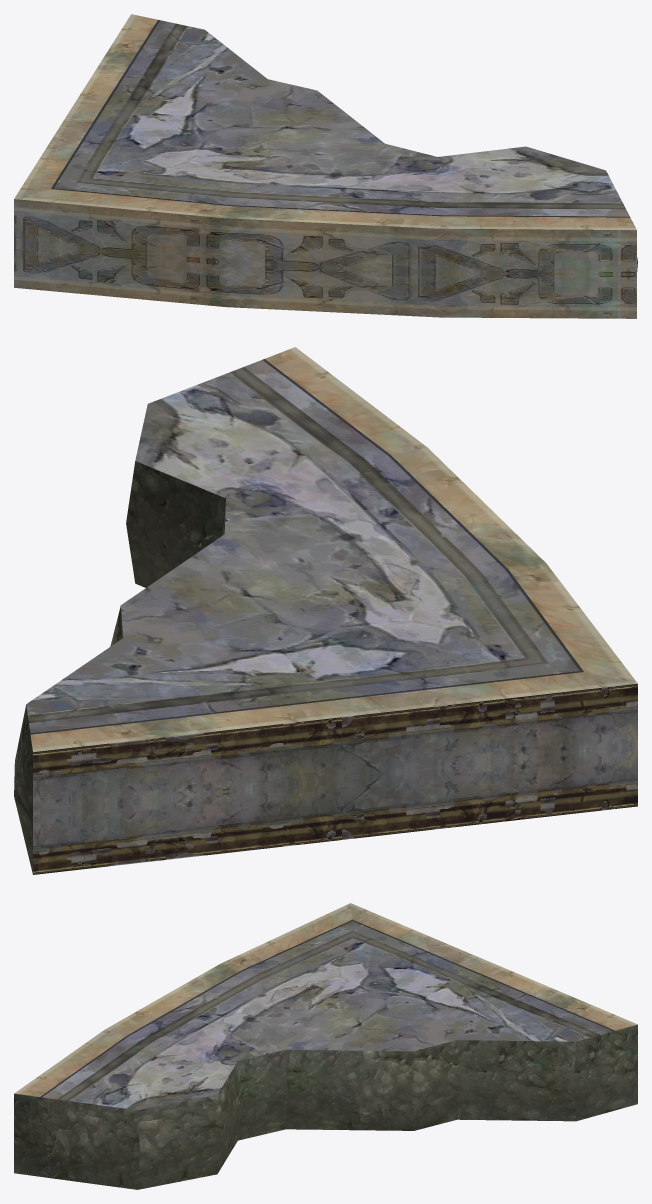
Rendered from bel_arch_rakata_raid_infernal_platform_piece03.glb.
The picture shows the model from 3 angles, top to bottom: view 1: azimuth 30°, elevation 25°; view 2: azimuth 150°, elevation 25°; view 3: azimuth 270°, elevation 25°; orthographic projection. The views are drawn at different scales.
Parts seen in each view (by area): view 1: bel_arch_rakata_raid_infernal_platform_piece03; view 2: bel_arch_rakata_raid_infernal_platform_piece03; view 3: bel_arch_rakata_raid_infernal_platform_piece03.
Part boxes in pixels (<box>): bel_arch_rakata_raid_infernal_platform_piece03: <box>14,14,637,318</box>; bel_arch_rakata_raid_infernal_platform_piece03: <box>14,347,637,874</box>; bel_arch_rakata_raid_infernal_platform_piece03: <box>14,903,637,1189</box>.
Bounding box in the file's own units: 1.13 × 0.2 × 1.42.
Materials: 3 (3 with a texture image).
